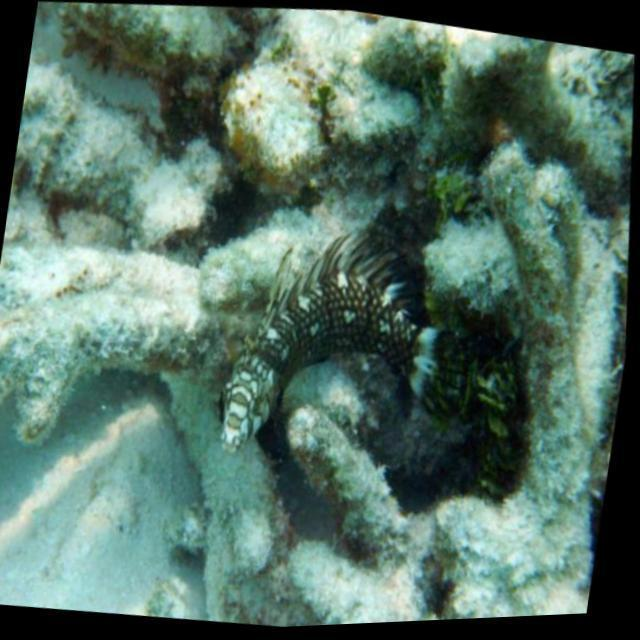Dead Coral: (0, 0, 640, 330), (397, 213, 636, 626), (145, 416, 470, 635), (0, 218, 223, 479)
